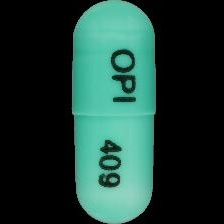68151-2500: (0, 0, 224, 224)
